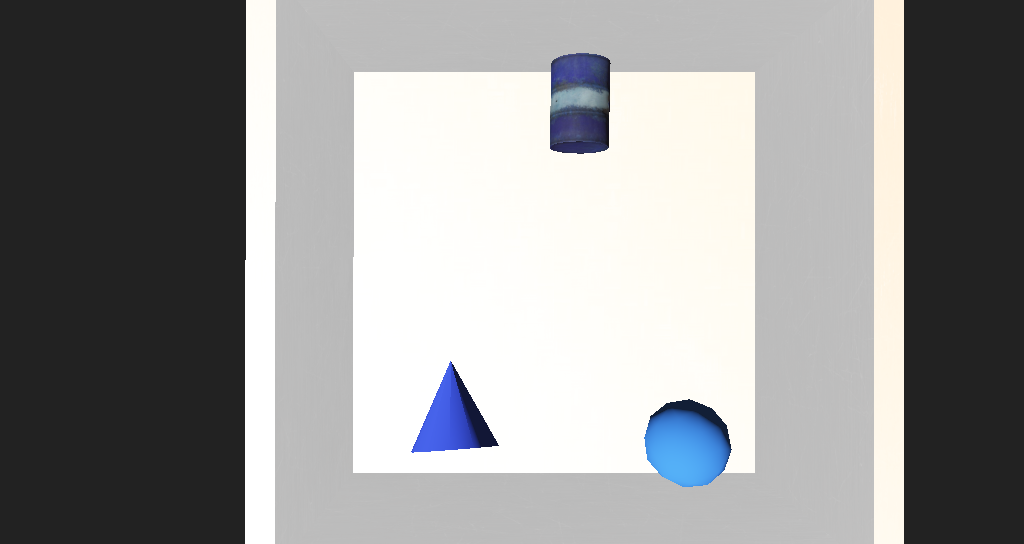cone: (502, 155, 549, 208)
cylinder: (394, 305, 468, 372)
sphere: (576, 336, 637, 379)
